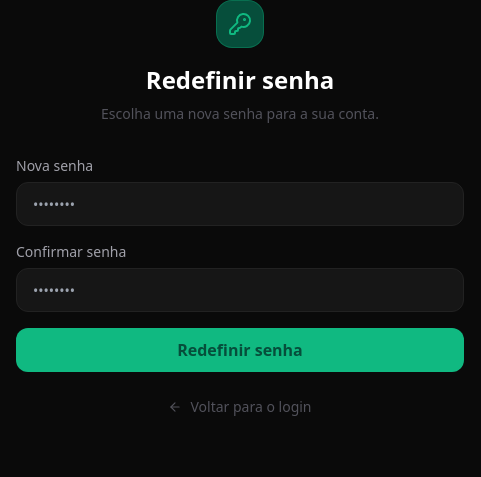
Test: ResetPasswordPage › deve exibir erro quando senha é fraca
Type "fraca" into the password field labelled "Nova senha" at (240,204), box x1=16 y1=182 x2=464 y2=226
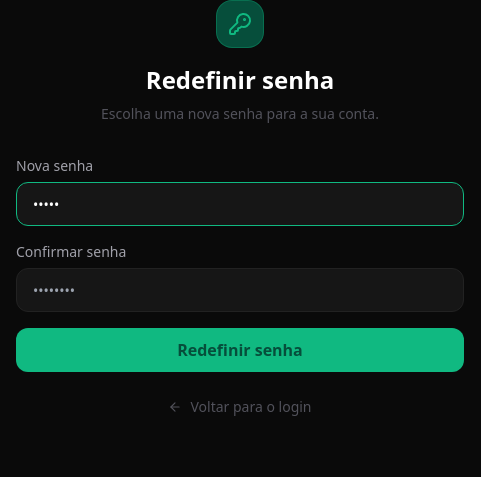
Click the button "Redefinir senha" at (240,350), box x1=16 y1=328 x2=464 y2=372
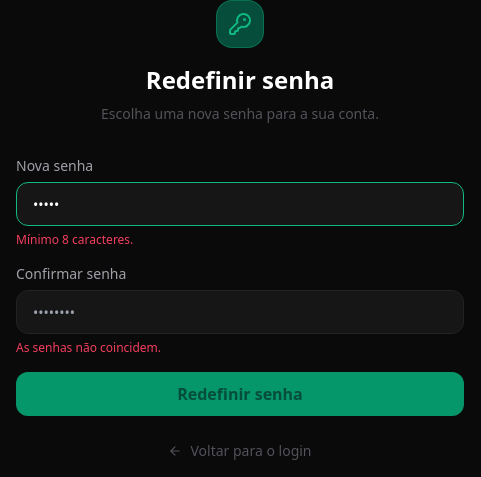
Now the text "Mínimo 8 caracteres." is shown, box x1=16 y1=231 x2=133 y2=248
